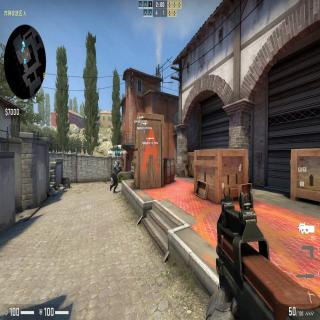CT-Body: (110, 159, 122, 193)
CT-Head: (116, 159, 120, 167)
